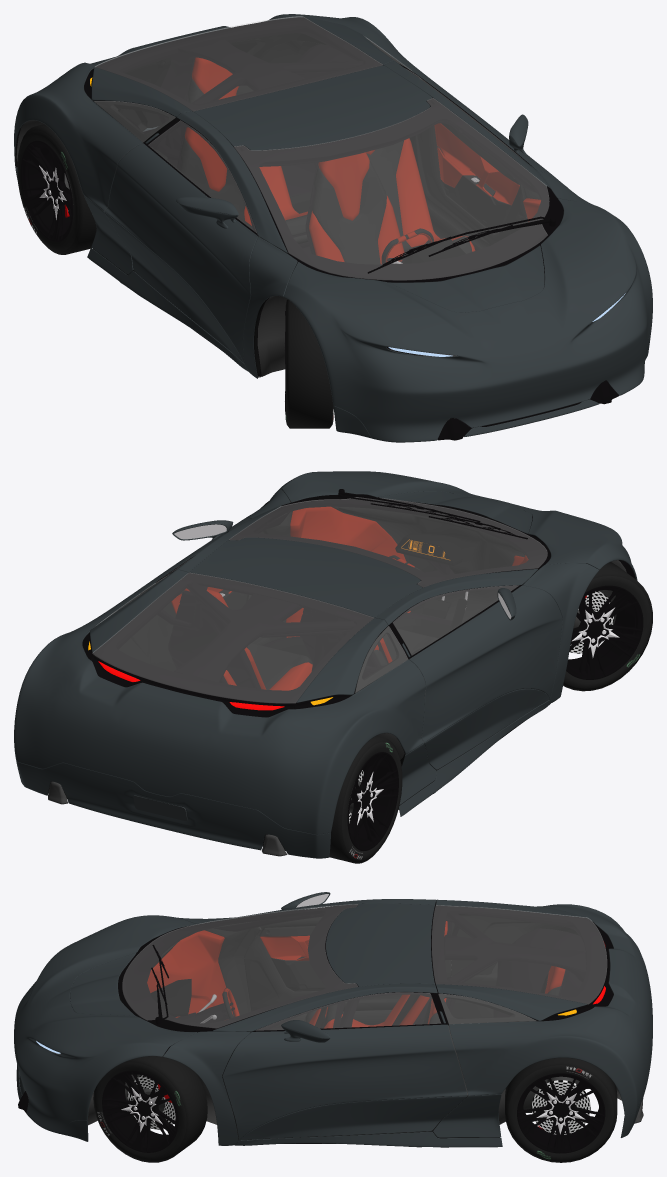
File: trust-grand-tourer.glb
3 renders of one model, top to bottom at view 1: azimuth 30°, elevation 25°; view 2: azimuth 150°, elevation 25°; view 3: azimuth 270°, elevation 25°, orthographic. The views are drawn at different scales.
Visible parts, largest first — view 1: BodyHood, BodyWindshield, BodyRearwindow, BodyDoorRColor1, BodyRearPanelsColor1, BodyRoofPanel, BodyWindshieldGasket, InteriorSeatsColor1, InteriorSeatsColor2, BodyPillars, InteriorPillar, InteriorRearHatch (+21 smaller); view 2: BodyRearPanelsColor1, BodyRearwindow, BodyWindshield, BodyDoorRColor1, BodyPanelsColor2, BodyRoofPanel, BodyHood, InteriorRearHatch, BodyPillars, InteriorPillar, BodyWindshieldGasket, InteriorDashMid (+22 smaller); view 3: BodyRearPanelsColor1, BodyWindshield, BodyDoorLColor1, BodyHood, BodyRearwindow, BodyRoofPanel, BodyPillars, BodyWindshieldGasket, BodyDoorLColor2, BodyPanelsColor2, WheelFrontL, InteriorRearHatch (+25 smaller).
Part boxes in pixels (left/top/right/bottom): BodyHood: left=283, top=198, right=652, bottom=442; BodyWindshield: left=234, top=98, right=549, bottom=280; BodyRearwindow: left=95, top=16, right=382, bottom=110; BodyDoorRColor1: left=104, top=143, right=257, bottom=362; BodyRearPanelsColor1: left=14, top=14, right=428, bottom=210; BodyRoofPanel: left=193, top=65, right=432, bottom=150; BodyWindshieldGasket: left=234, top=99, right=563, bottom=282; InteriorSeatsColor1: left=185, top=57, right=475, bottom=264; InteriorSeatsColor2: left=180, top=78, right=472, bottom=264; BodyPillars: left=176, top=61, right=598, bottom=378; InteriorPillar: left=158, top=37, right=434, bottom=168; InteriorRearHatch: left=93, top=17, right=383, bottom=117; BodyRearPanelsColor1: left=14, top=569, right=425, bottom=834; BodyRearwindow: left=92, top=573, right=373, bottom=703; BodyWindshield: left=229, top=497, right=547, bottom=587; BodyDoorRColor1: left=409, top=585, right=562, bottom=742; BodyPanelsColor2: left=16, top=700, right=550, bottom=858; BodyRoofPanel: left=189, top=537, right=422, bottom=617; BodyHood: left=279, top=471, right=637, bottom=580; InteriorRearHatch: left=93, top=573, right=386, bottom=707; BodyPillars: left=175, top=489, right=599, bottom=702; InteriorPillar: left=174, top=574, right=417, bottom=682; BodyWindshieldGasket: left=230, top=497, right=550, bottom=587; InteriorDashMid: left=331, top=503, right=528, bottom=622; BodyRearPanelsColor1: left=436, top=899, right=652, bottom=1115; BodyWindshield: left=122, top=904, right=357, bottom=1028; BodyDoorLColor1: left=222, top=1024, right=467, bottom=1139; BodyHood: left=14, top=915, right=196, bottom=1133; BodyRearwindow: left=432, top=905, right=606, bottom=1003; BodyRoofPanel: left=326, top=903, right=434, bottom=986; BodyPillars: left=163, top=899, right=437, bottom=1145; BodyWindshieldGasket: left=118, top=905, right=357, bottom=1032; BodyDoorLColor2: left=240, top=1096, right=467, bottom=1140; BodyPanelsColor2: left=16, top=1050, right=652, bottom=1147; WheelFrontL: left=93, top=1054, right=207, bottom=1162; InteriorRearHatch: left=431, top=905, right=606, bottom=1020.
Size of the model in its own units: 2.76 by 1.25 by 4.73.
Materials: 23 (5 with a texture image).
